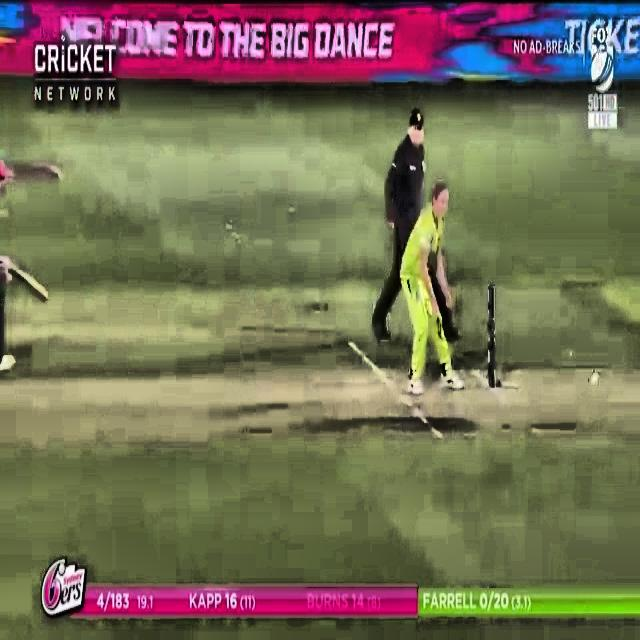Ball: (580, 360, 611, 396)
Pitch_Line: (344, 339, 445, 440)
Undis_Wicket: (478, 280, 513, 391)
